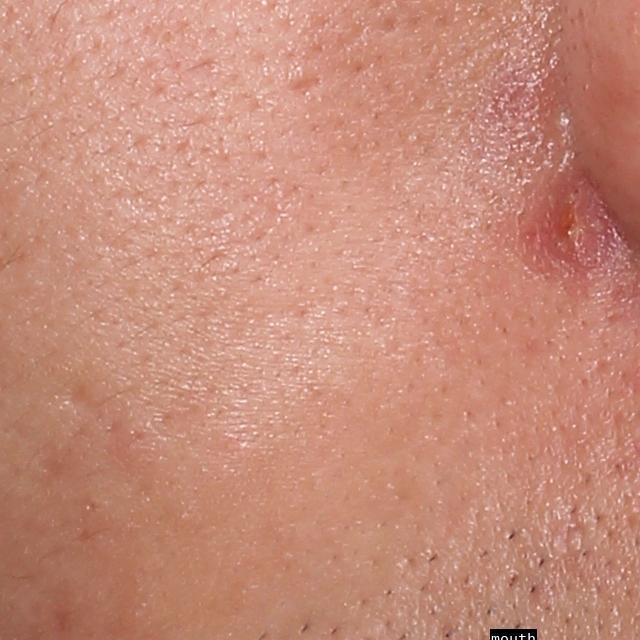atrophic_scar: (52, 376, 100, 426), (283, 68, 327, 101)
papule: (543, 185, 619, 274)
